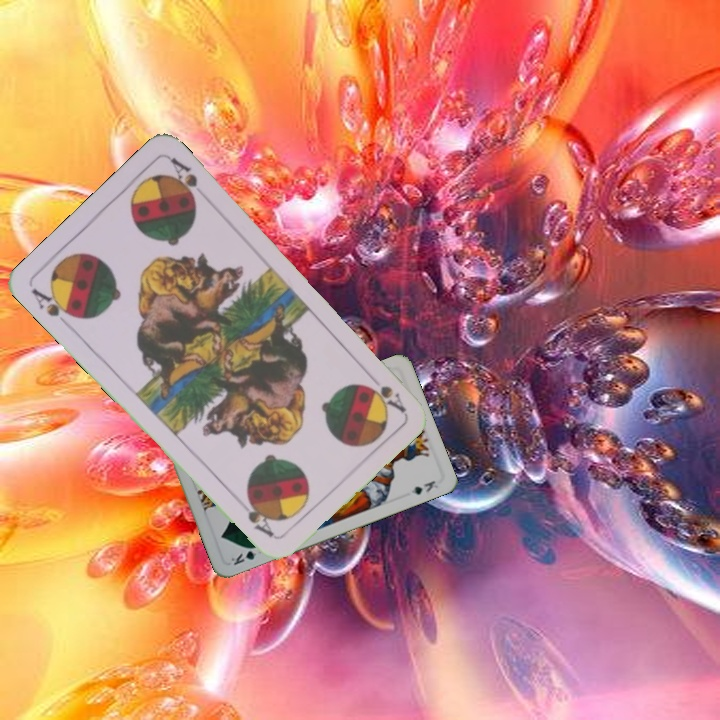GK: (227, 541, 263, 568)
SA: (361, 367, 408, 415), (27, 284, 81, 322)
